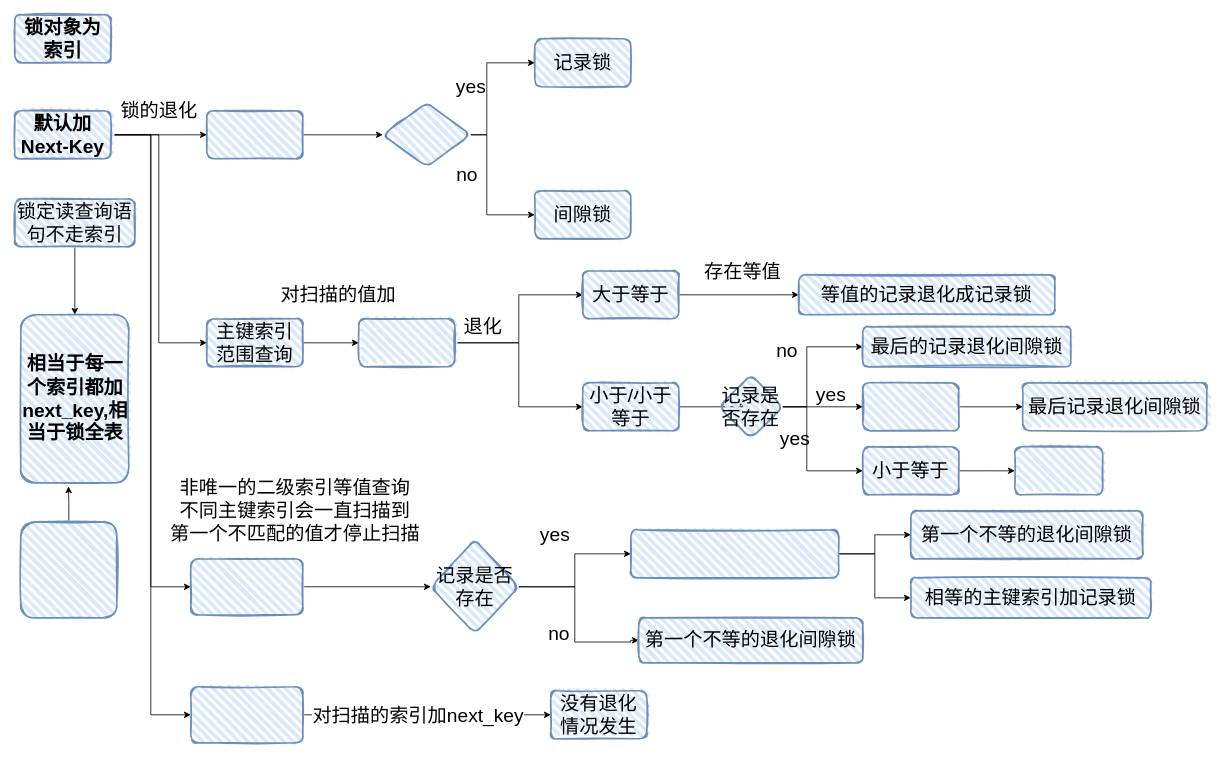
This 1221x757 diagram has some shape labels left out. Here are the shapes that lost their labels. From the top down, the centre of each, then its label:
At (x=254, y=134): "主键索引等值查询".
At (x=426, y=134): "值是否存在".
At (x=406, y=342): "next-key".
At (x=910, y=406): "小于".
At (x=1058, y=470): "不会退化".
At (x=68, y=569): "update delete 也是如此".
At (x=734, y=553): "扫描的记录加next-key".
At (x=246, y=586): "非唯一索引等值查询".
At (x=246, y=714): "非唯一索引范围查询".
